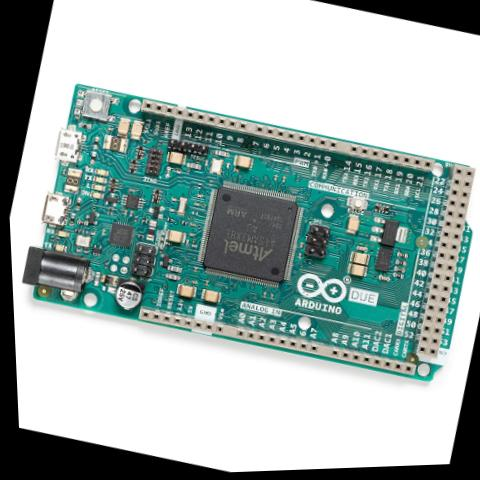Arduino-Due: (2, 55, 480, 407)
